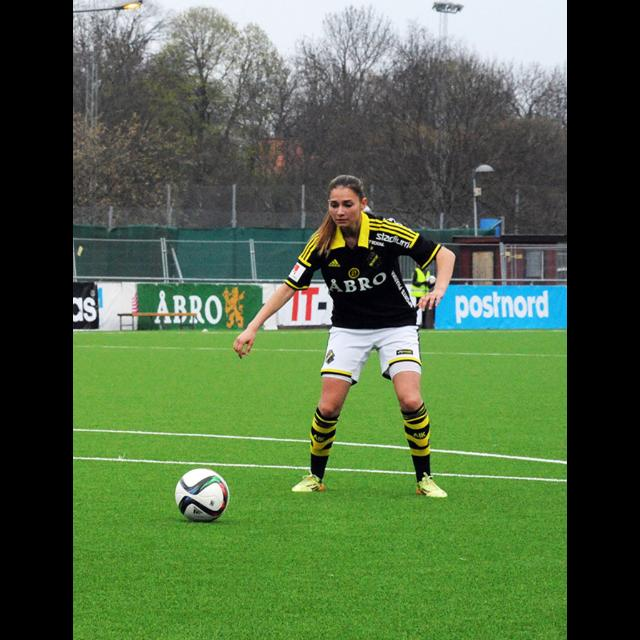Football: (169, 465, 227, 523)
